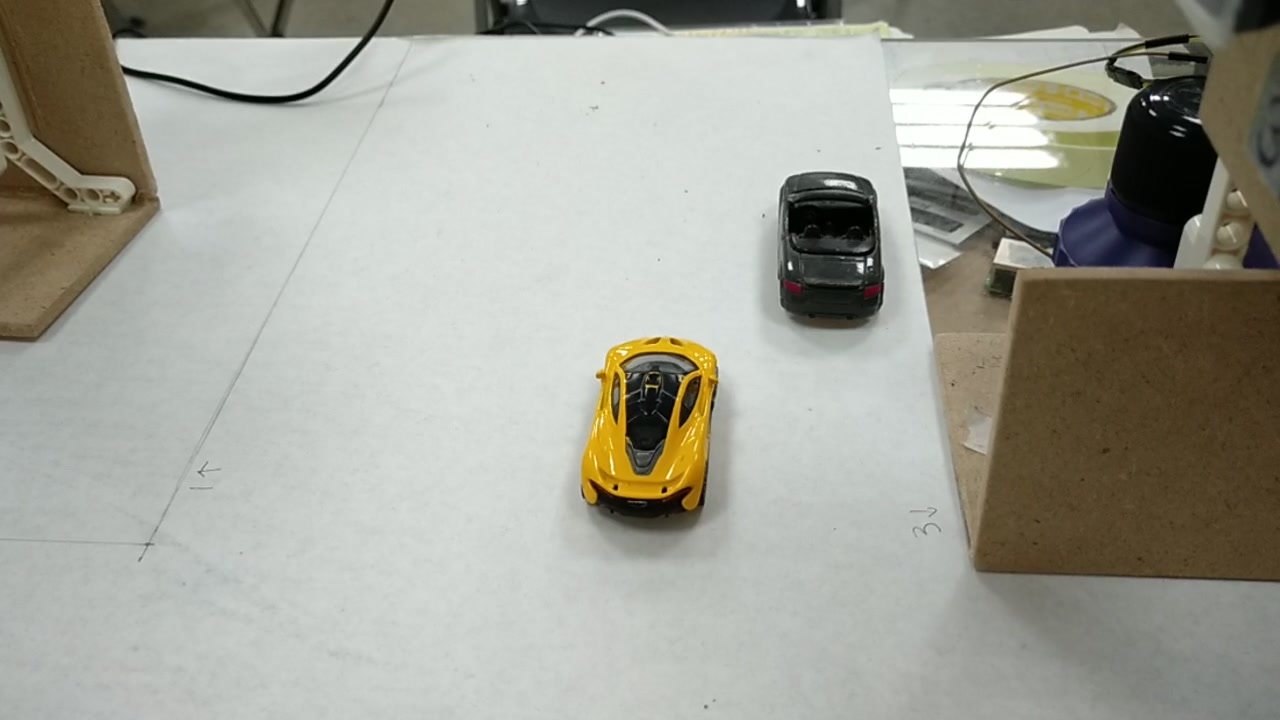car: (584, 332, 717, 507), (779, 171, 876, 302)
